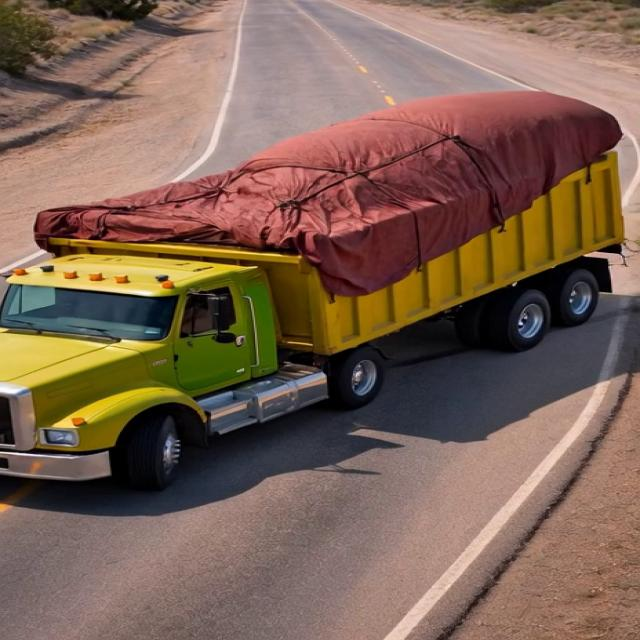trailer: (50, 138, 606, 256)
truck: (6, 100, 639, 500)
